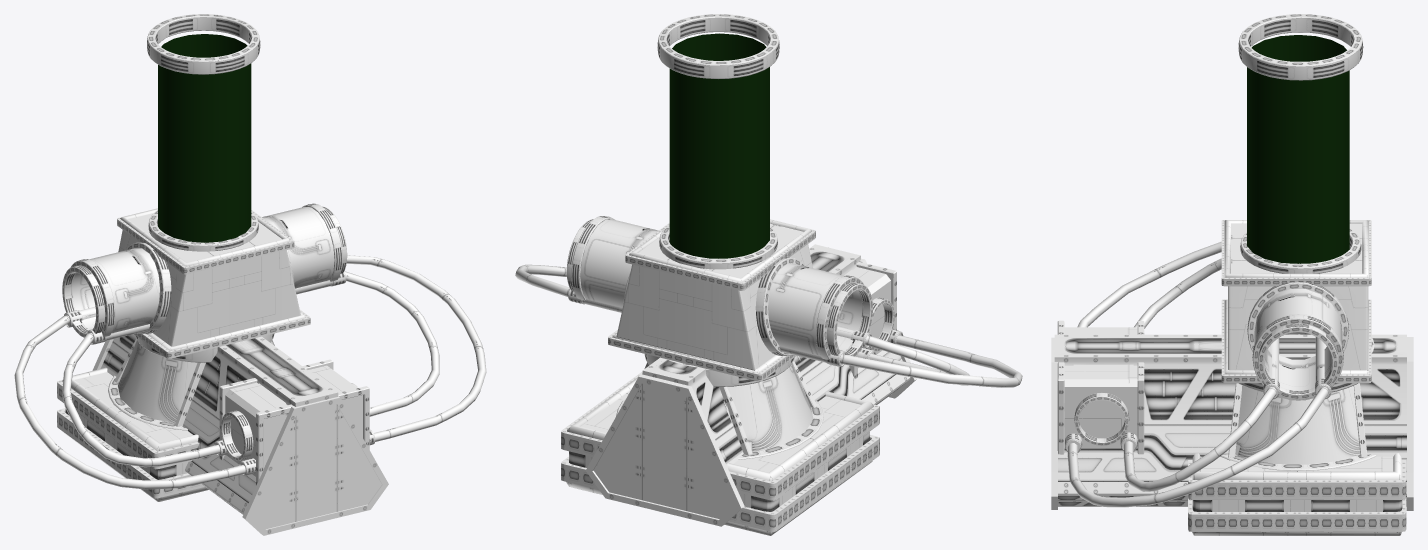
Rendered from PickUp_VF.FBX.
3 views of the same model, side by side, from view 1: azimuth 30°, elevation 25°; view 2: azimuth 150°, elevation 25°; view 3: azimuth 270°, elevation 25° (orthographic). The views are drawn at different scales.
Visible parts, largest first — view 1: PickUp_Base, PickUp_Glass; view 2: PickUp_Base, PickUp_Glass; view 3: PickUp_Base, PickUp_Glass.
Boxes of the visible parts, x1,y1,x2,y2 form: PickUp_Base: [14, 14, 486, 535]; PickUp_Glass: [158, 34, 251, 242]; PickUp_Base: [515, 14, 1022, 535]; PickUp_Glass: [669, 33, 769, 258]; PickUp_Base: [1051, 14, 1413, 535]; PickUp_Glass: [1247, 35, 1349, 263].
Size of the model in its own units: 297 by 265 by 194.
